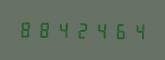eight: (17, 18, 34, 39), (35, 19, 52, 39)
four: (125, 20, 142, 41), (53, 19, 70, 39), (89, 20, 106, 40)
six: (107, 20, 124, 40)
two: (71, 19, 88, 40)
